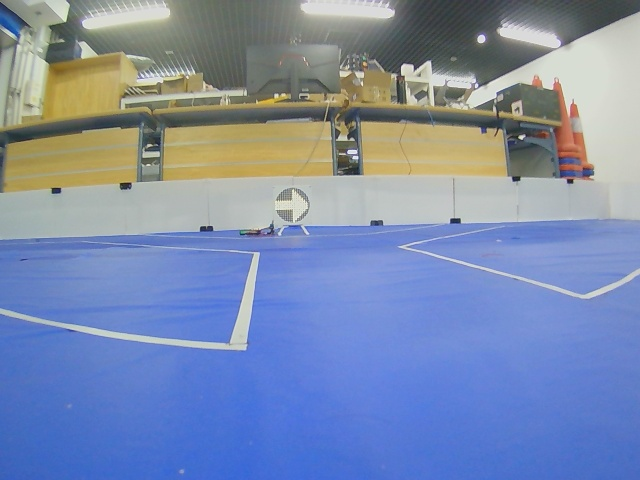right_yellow: (275, 187, 310, 224)
